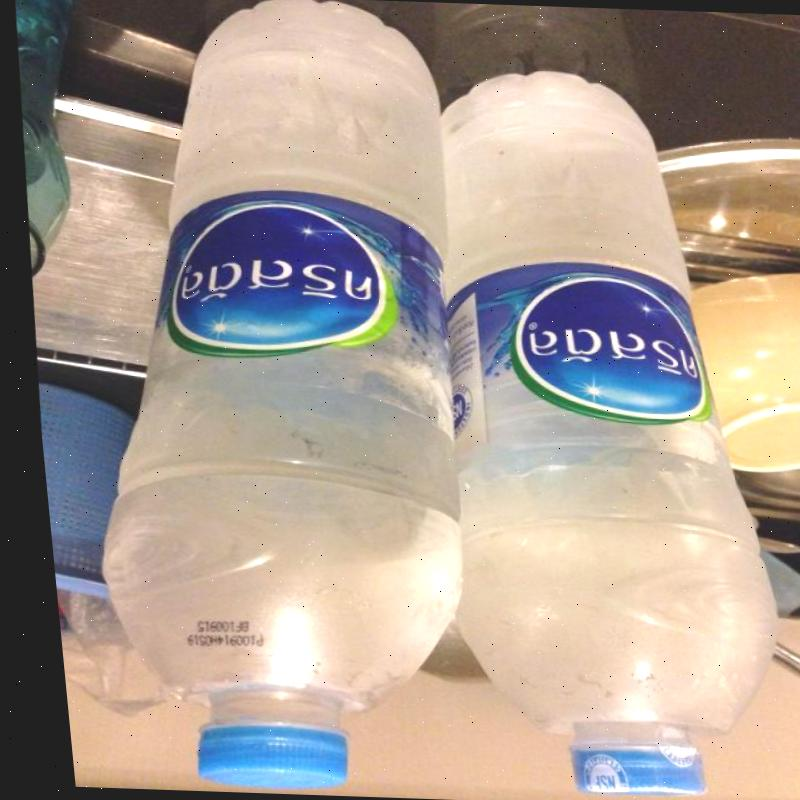botella: (35, 0, 496, 793), (395, 60, 790, 796)
